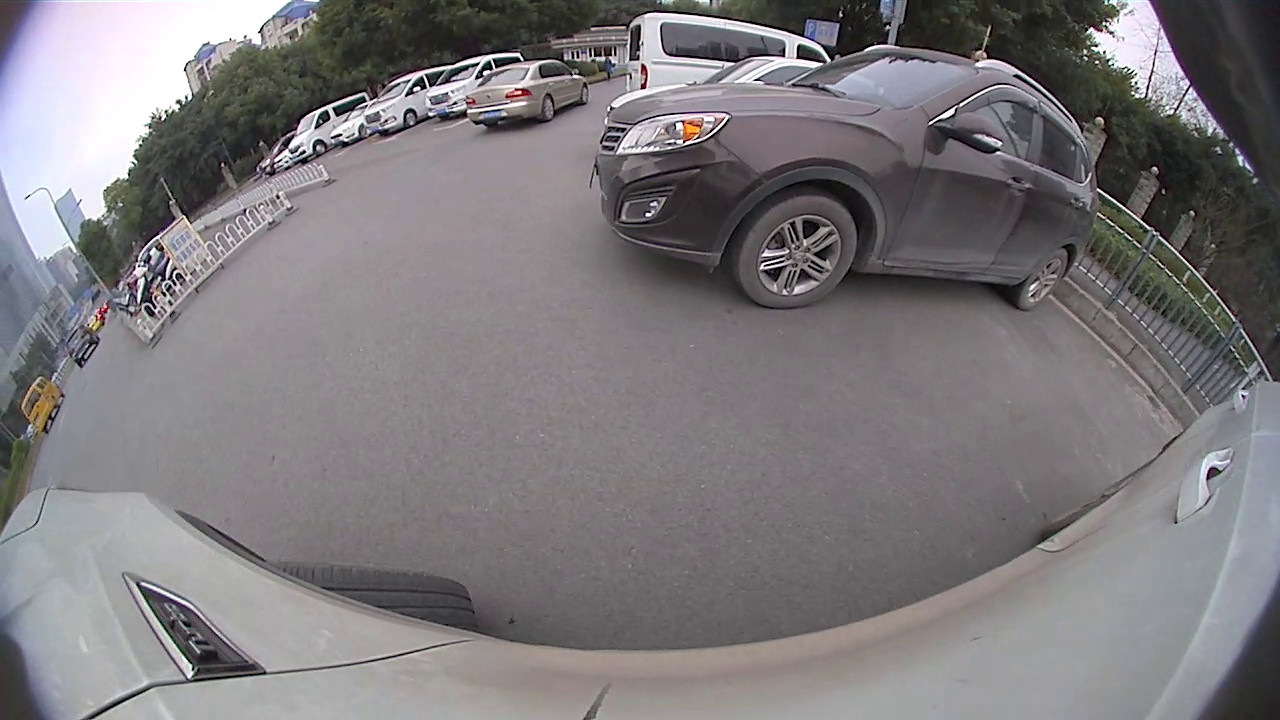car: (595, 44, 1103, 313), (624, 13, 834, 94), (464, 58, 600, 130), (424, 51, 523, 123), (364, 64, 462, 134), (289, 91, 375, 163), (329, 100, 393, 148)
front: (733, 197, 859, 311), (404, 110, 419, 127), (580, 83, 590, 103), (313, 140, 326, 154)
rear: (1017, 248, 1070, 312), (540, 97, 555, 121)
